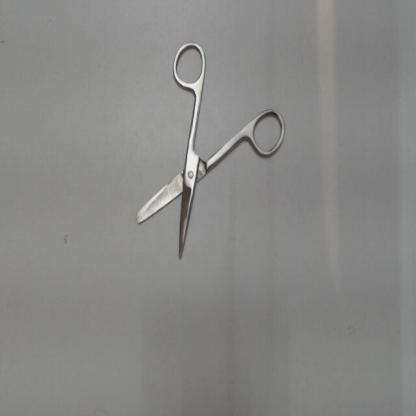Dressing Scissors: (122, 34, 290, 276)
